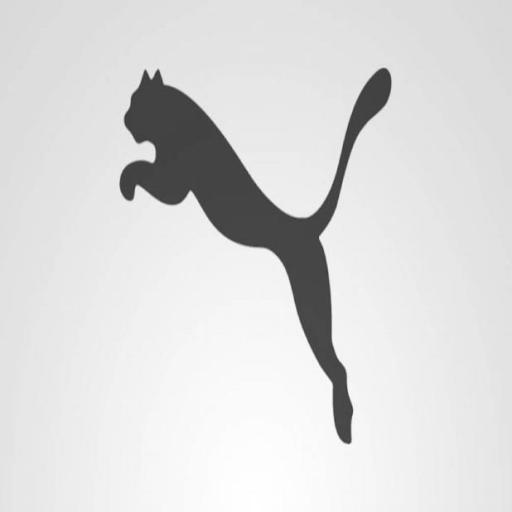Puma: (116, 61, 401, 449)
